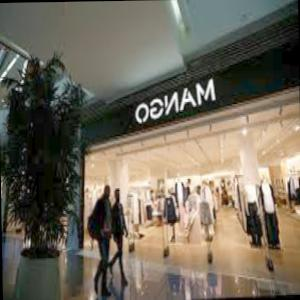mango: (131, 75, 216, 127)
